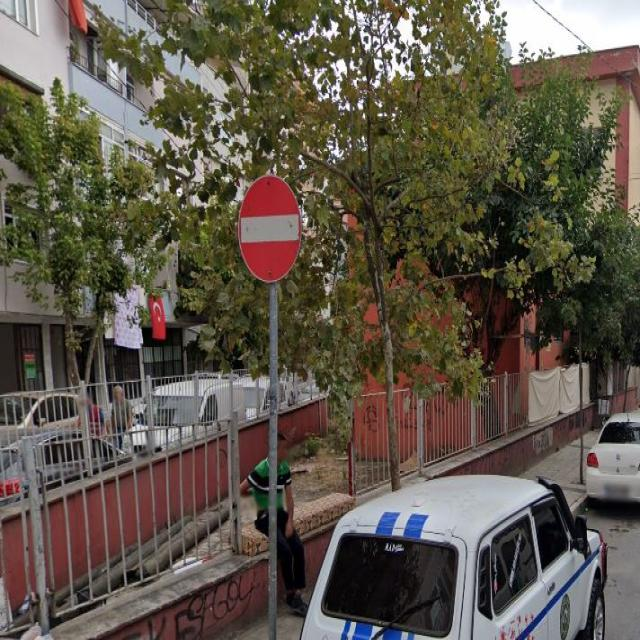girisyok: (238, 177, 301, 281)
